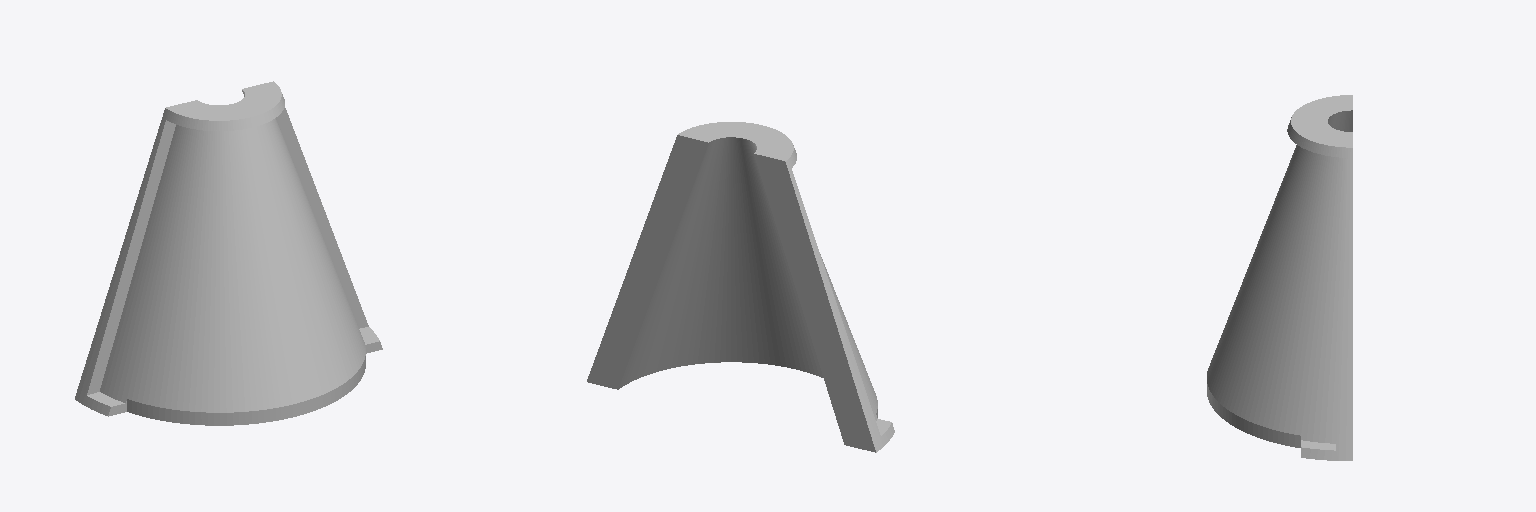
Rendered from Holder.obj.
The picture shows the model from 3 angles: view 1: azimuth 30°, elevation 25°; view 2: azimuth 150°, elevation 25°; view 3: azimuth 270°, elevation 25°; orthographic projection.
Visible parts, largest first — view 1: mesh5, mesh9, mesh1, mesh8, mesh3, mesh12; view 2: mesh11, mesh13, mesh14, mesh9, mesh12, mesh5; view 3: mesh5, mesh9, mesh12, mesh8.
Part boxes in pixels (bbox=[...]): mesh5: bbox=[100, 118, 365, 412]; mesh9: bbox=[75, 94, 284, 415]; mesh1: bbox=[87, 120, 175, 394]; mesh8: bbox=[127, 356, 365, 425]; mesh3: bbox=[276, 108, 368, 328]; mesh12: bbox=[166, 81, 281, 120]; mesh11: bbox=[618, 137, 822, 389]; mesh13: bbox=[587, 135, 708, 389]; mesh14: bbox=[754, 154, 875, 452]; mesh9: bbox=[785, 145, 894, 452]; mesh12: bbox=[678, 122, 793, 160]; mesh5: bbox=[820, 254, 877, 420]; mesh5: bbox=[1207, 145, 1345, 443]; mesh9: bbox=[1287, 117, 1352, 460]; mesh12: bbox=[1291, 95, 1352, 147]; mesh8: bbox=[1207, 384, 1300, 447].
Bounding box in the file's own units: 0.1593 × 0.1414 × 0.0698.